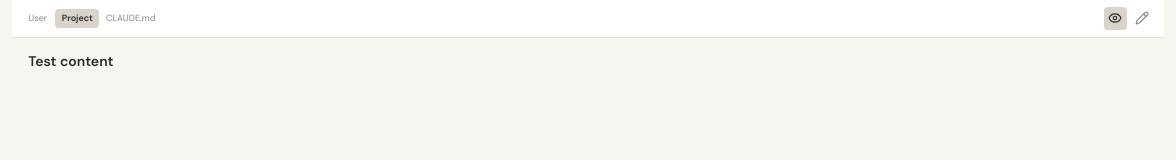
MemoryEditor › switches to edit mode and shows textarea
This screenshot has width=1176, height=160.
expect the heading "Test content" is shown: met, box [28,52,114,70]
What coordinates should you click on to do the following:
click the button named "Edit mode"
I would click on:
 (1142, 18)
Its box is [1130,6,1154,30].
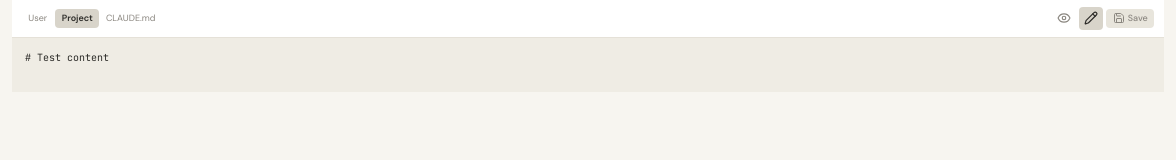
expect the text box named "CLAUDE.md editor" holds "# Test content": met, box [12,38,1164,92]
